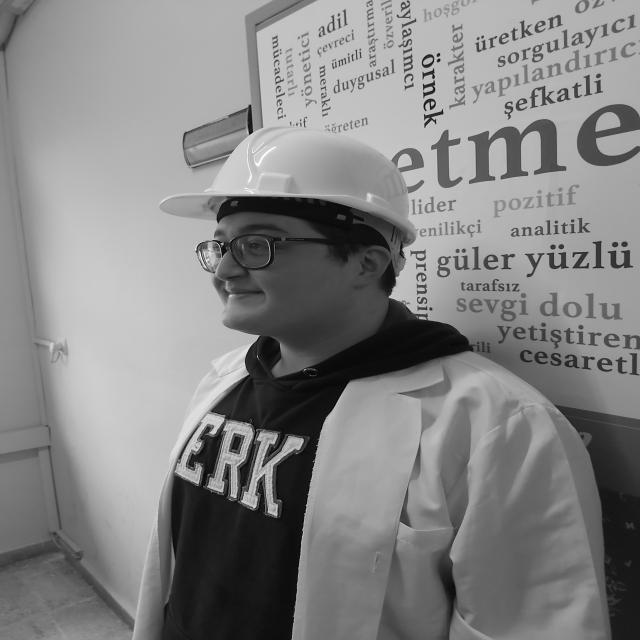safety_helmet: (159, 126, 417, 271)
